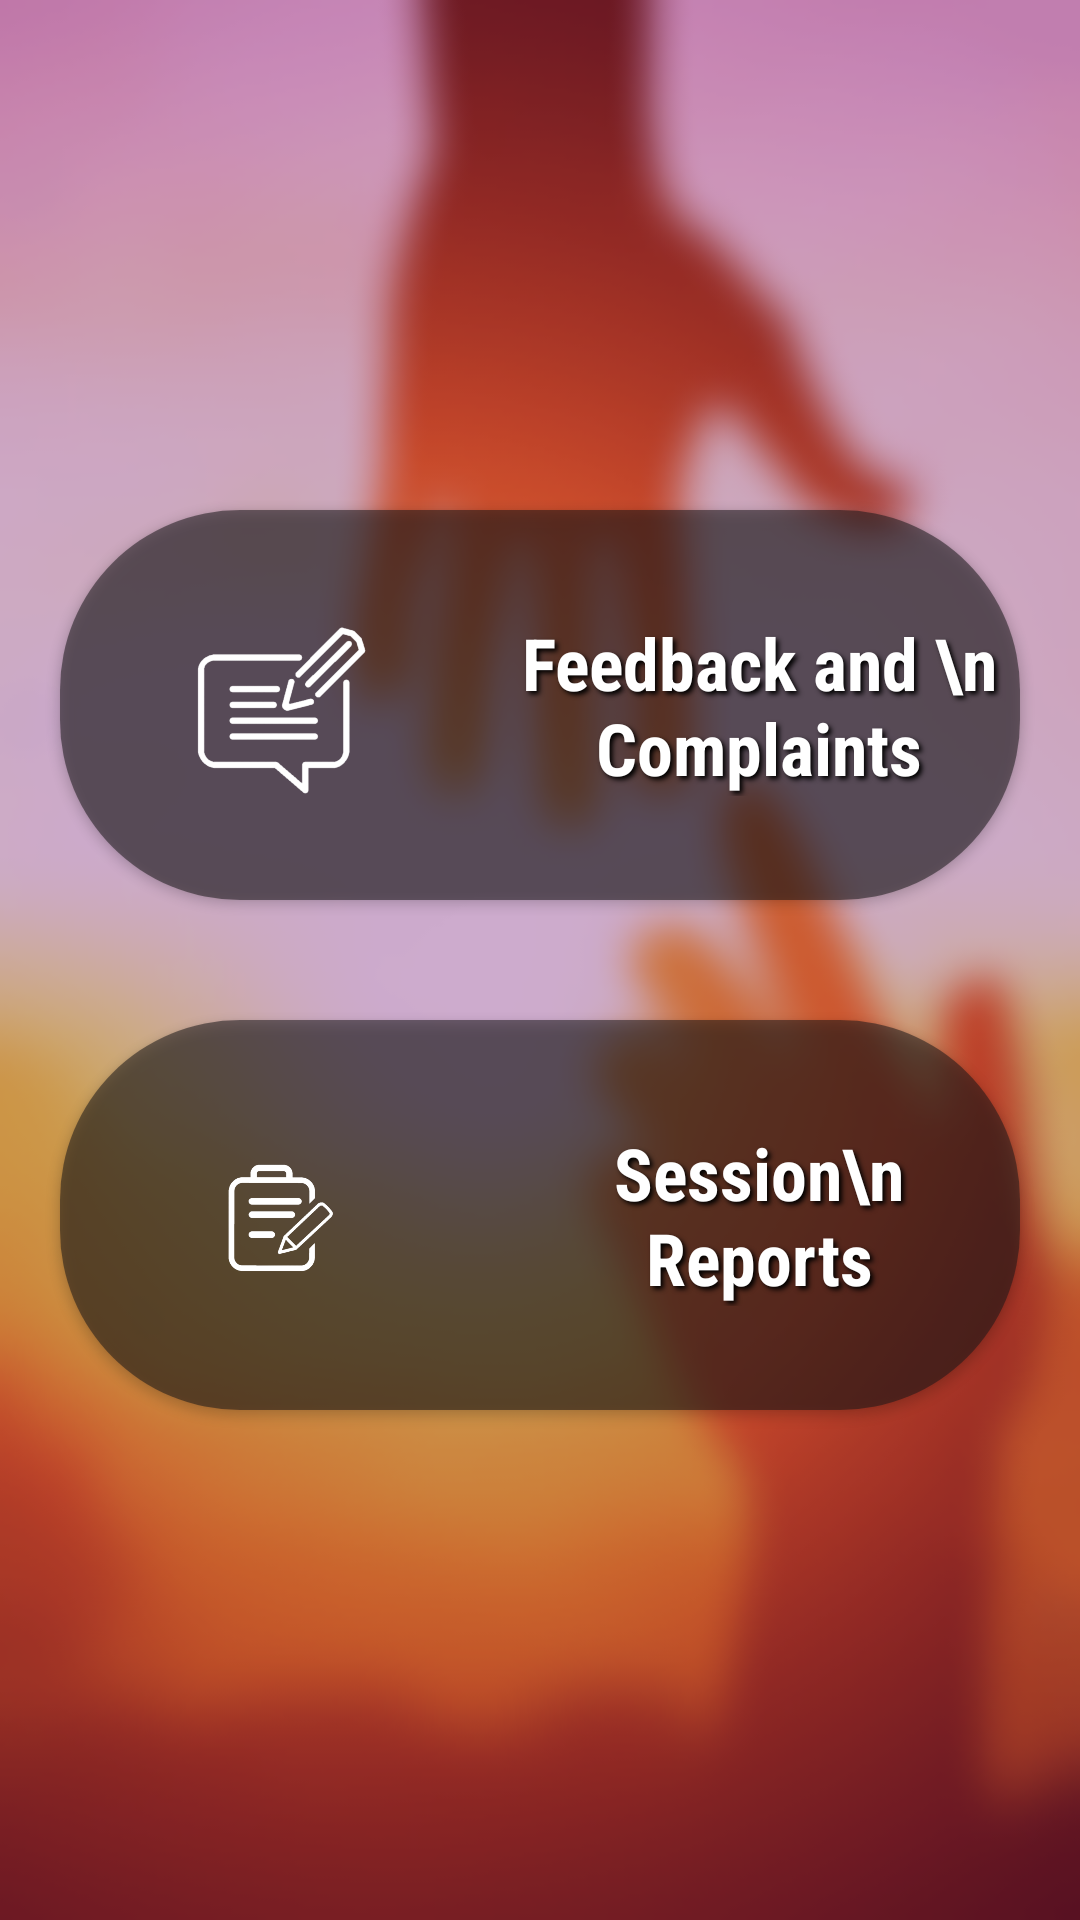

Icon bounding boxes for this 1080x1920 phone screenshot, format (x1, y1, x2, y2):
feedback complain: (198, 641, 352, 794)
session report: (228, 1119, 375, 1271)
